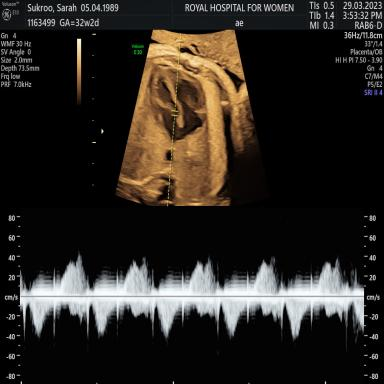Ultrasound-Waves: (26, 215, 363, 384)
